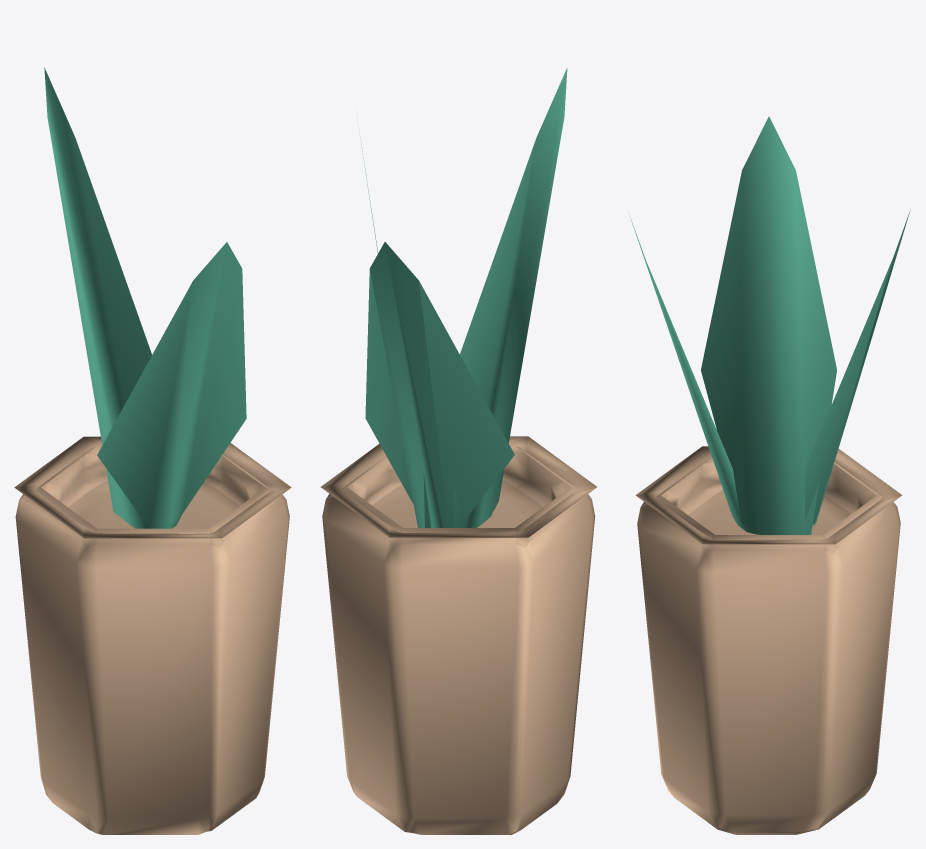
File: plant.glb
The picture shows the model from 3 angles, left to right: view 1: azimuth 30°, elevation 25°; view 2: azimuth 150°, elevation 25°; view 3: azimuth 270°, elevation 25°; orthographic projection. The views are drawn at different scales.
Parts seen in each view (by area): view 1: plant_pottedPlant(Clone), plant_plant; view 2: plant_pottedPlant(Clone), plant_plant; view 3: plant_pottedPlant(Clone), plant_plant.
Boxes of the visible parts, x1,y1,x2,y2 form: plant_pottedPlant(Clone): (14, 436, 291, 834); plant_plant: (44, 67, 246, 528); plant_pottedPlant(Clone): (320, 436, 597, 834); plant_plant: (358, 68, 567, 527); plant_pottedPlant(Clone): (635, 446, 902, 834); plant_plant: (628, 116, 910, 534).
Bounding box in the file's own units: 0.4858 × 1.64 × 0.5738.
